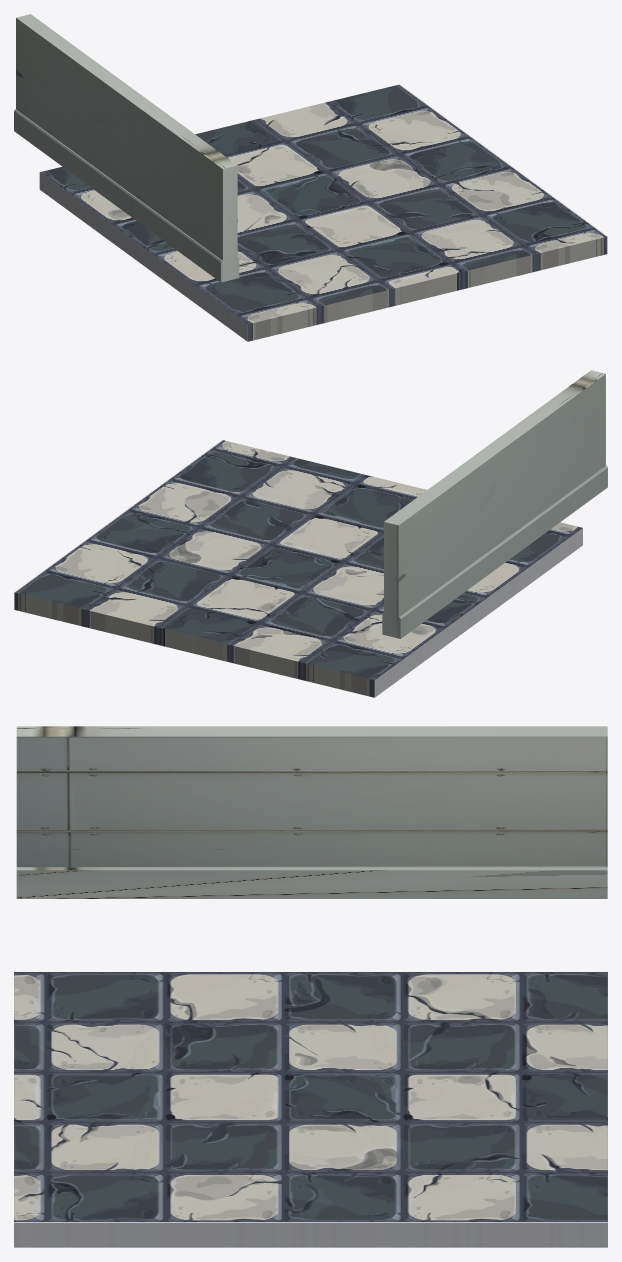
The model's file is Sample.fbx.
The picture shows the model from 3 angles, top to bottom: view 1: azimuth 30°, elevation 25°; view 2: azimuth 150°, elevation 25°; view 3: azimuth 270°, elevation 25°; orthographic projection. The views are drawn at different scales.
Parts seen in each view (by area): view 1: Plane, Cube; view 2: Plane, Cube; view 3: Plane, Cube.
Part boxes in pixels (<box>): Plane: <box>39,84,607,341</box>; Cube: <box>14,14,239,282</box>; Plane: <box>14,440,582,697</box>; Cube: <box>382,370,607,638</box>; Plane: <box>14,972,607,1247</box>; Cube: <box>16,726,607,898</box>.
Size of the model in its own units: 407 by 179 by 379.
